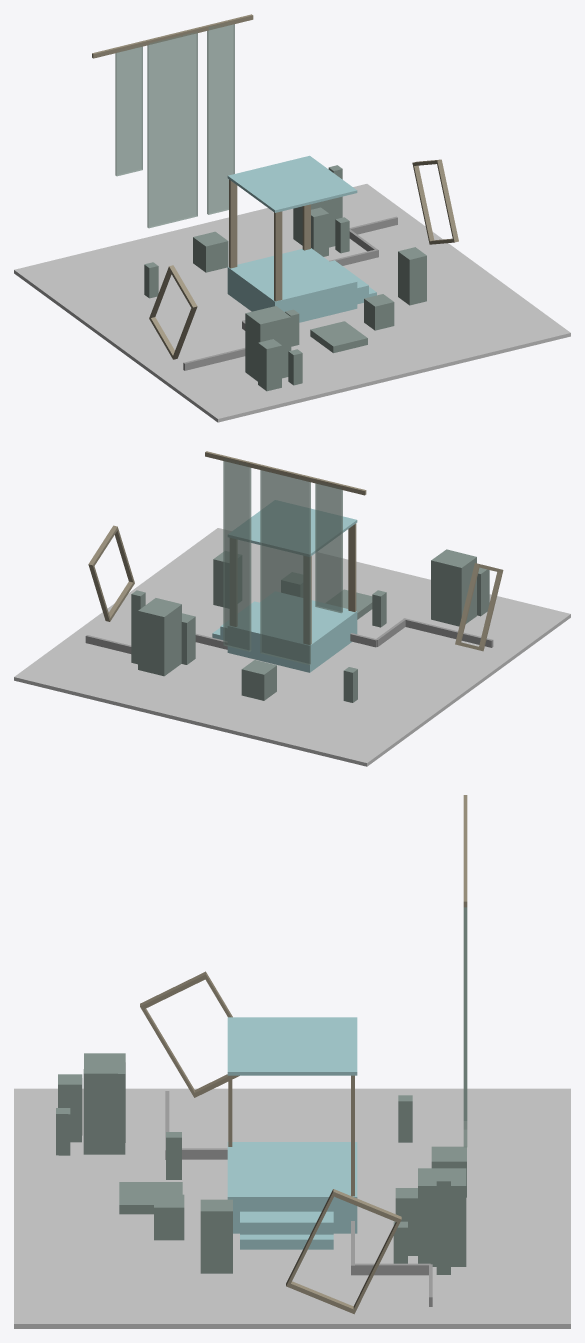
File: SM-Block2.fbx
3 views of the same model, one above another, from view 1: azimuth 30°, elevation 25°; view 2: azimuth 150°, elevation 25°; view 3: azimuth 270°, elevation 25° (orthographic). The views are drawn at different scales.
Visible parts, largest first — view 1: pCube166; view 2: pCube166; view 3: pCube166.
Part boxes in pixels (left/top/right/bottom): pCube166: left=14, top=14, right=570, bottom=422; pCube166: left=14, top=451, right=570, bottom=766; pCube166: left=14, top=795, right=570, bottom=1328.
Size of the model in its own units: 1599 by 1082 by 1599.
